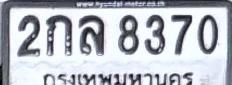0: (197, 14, 218, 54)
2: (17, 14, 40, 56)
3: (144, 14, 165, 54)
7: (171, 14, 192, 55)
8: (118, 14, 138, 54)
A01: (46, 14, 72, 56)
A36: (78, 14, 105, 55)
BKK: (37, 69, 197, 85)
